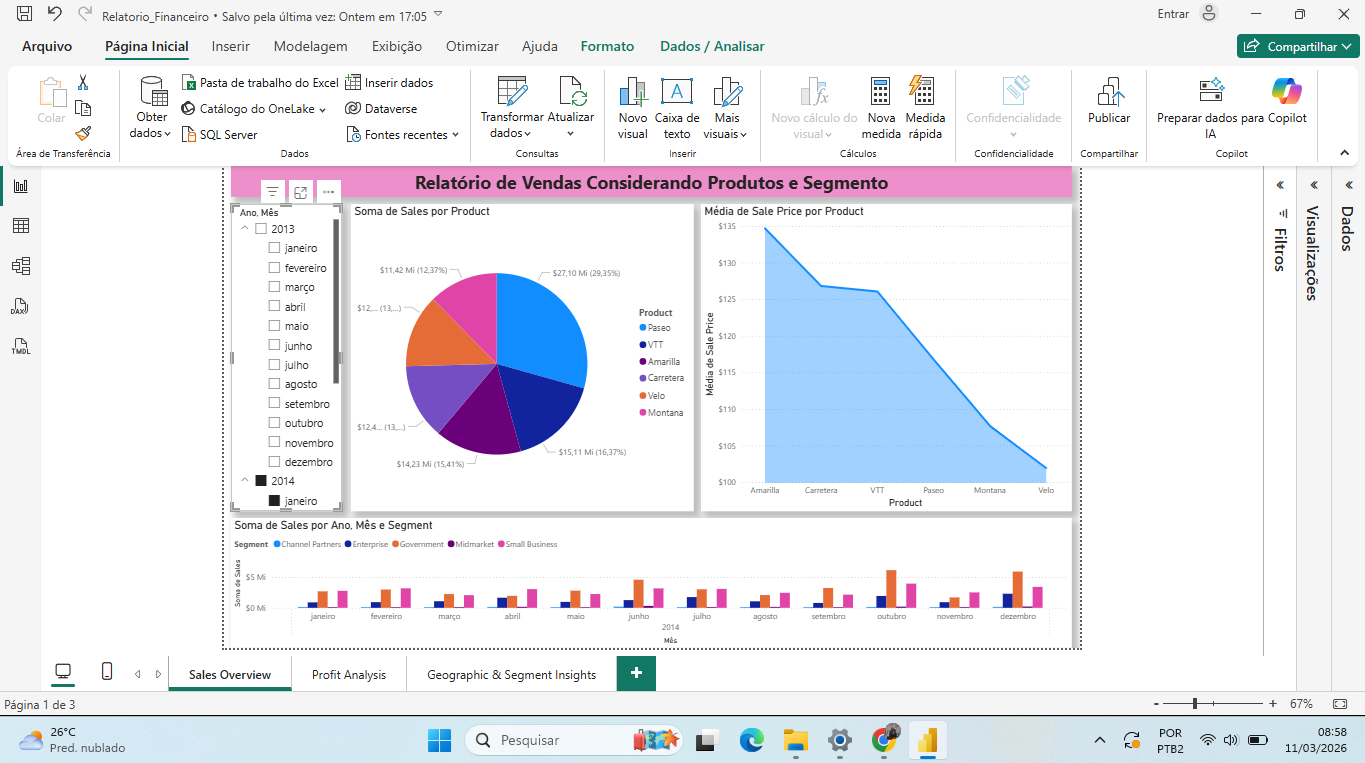

This screenshot's page, from the dashboard's own definition file:
{"tool":"powerbi","page":{"name":"Sales Overview","canvas":[1280,720],"ordinal":0},"visuals":[{"type":"textbox","box":[10.5,0,1256.3,113.5],"z":0},{"type":"textbox","box":[10.5,0,1256.3,46.3],"z":1000},{"type":"slicer","fields":{"Values":["dCalendario.Date.Variation.Hierarquia de datas.Ano","dCalendario.Date.Variation.Hierarquia de datas.Mês"]},"box":[10.5,56.8,165.8,458.6],"z":2000},{"type":"pieChart","fields":{"Category":["financials.Product"],"Y":["Sum(financials.Sales)"]},"box":[189.7,56.8,512.4,458.6],"z":3000},{"type":"areaChart","fields":{"Category":["financials.Product"],"Y":["Avg(financials.Sale Price)"]},"box":[712.5,56.8,554.2,458.6],"z":4000},{"type":"clusteredColumnChart","fields":{"Category":["dCalendario.Date.Variation.Hierarquia de datas.Ano","dCalendario.Date.Variation.Hierarquia de datas.Mês"],"Y":["Sum(financials.Sales)"],"Series":["financials.Segment"]},"box":[10.5,525.8,1256.3,194.2],"z":5000}]}

Visuals, with their boxes on the page's 1280x720 design canvas (x1, y1, x2, y2). These are canvas units, not pixel positions in the 1365x763 screenshot, which may show the page scaled, cropped or inside an application window:
textbox: select_region(10, 0, 1267, 114)
textbox: select_region(10, 0, 1267, 46)
slicer - dCalendario.Date.Variation.Hierarquia de datas.Ano x dCalendario.Date.Variation.Hierarquia de datas.Mês: select_region(10, 57, 176, 515)
pieChart - financials.Product x Sum(financials.Sales): select_region(190, 57, 702, 515)
areaChart - financials.Product x Avg(financials.Sale Price): select_region(712, 57, 1267, 515)
clusteredColumnChart - dCalendario.Date.Variation.Hierarquia de datas.Ano x dCalendario.Date.Variation.Hierarquia de datas.Mês: select_region(10, 526, 1267, 720)
